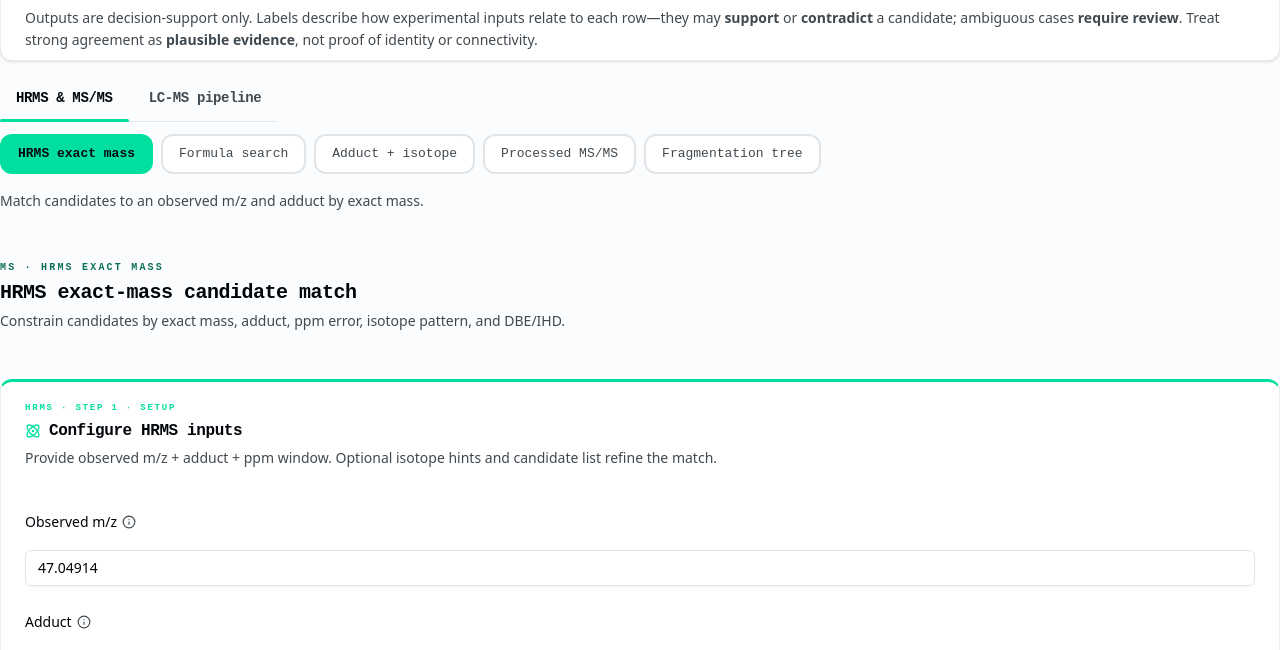
Scenario: SpectraCheckMsEvidence HRMS & formula › renders Processed MS/MS annotation card and Annotate MS/MS button
Click the tab "Processed MS/MS". click: (560, 154)
box: [483, 134, 636, 174]
(page scrolled)
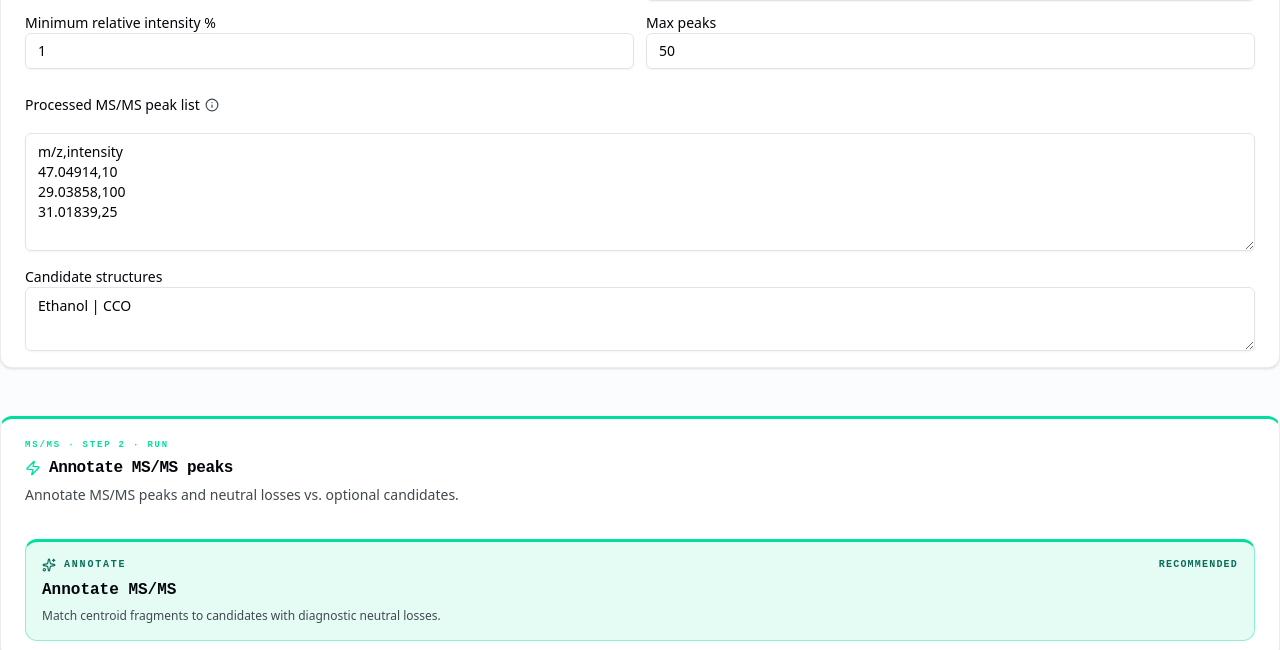
Now the button "Annotate MS/MS" is shown, box [25, 539, 1255, 641]
